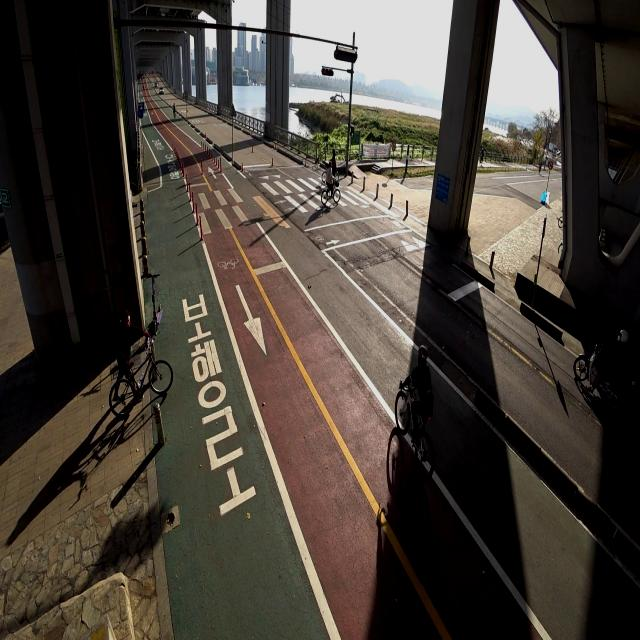Car: (152, 76, 160, 93), (159, 85, 164, 98)
Motorcycle: (571, 322, 639, 416)
